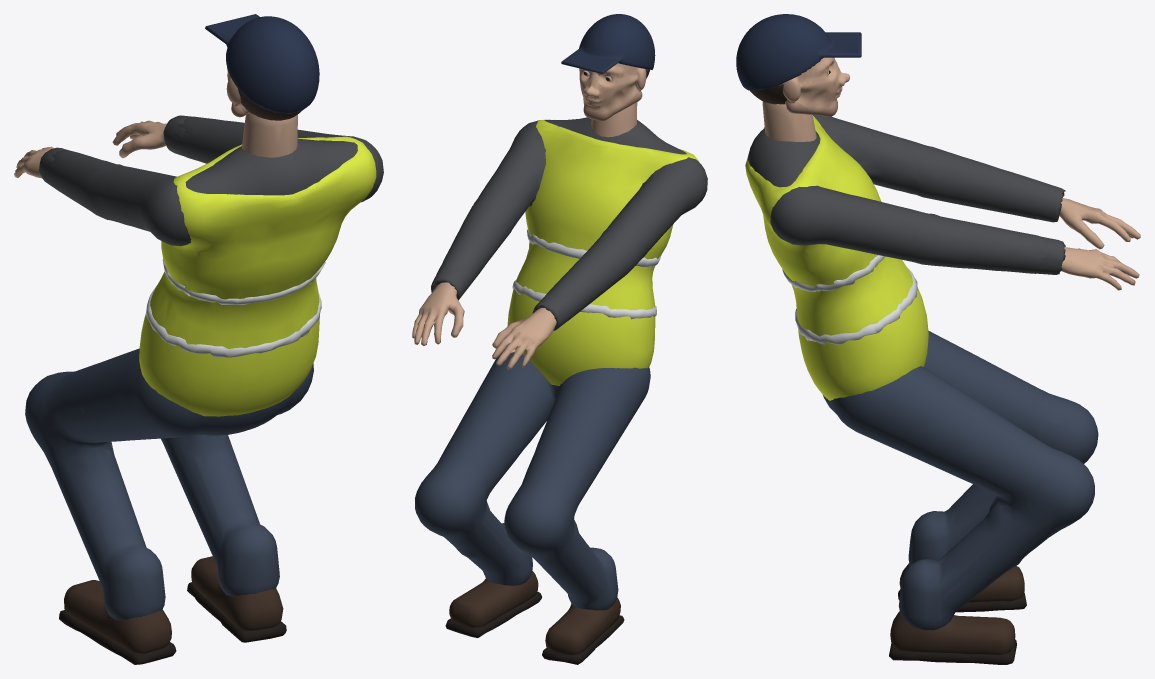
File: hivis.glb
3 renders of one model, left to right at view 1: azimuth 30°, elevation 25°; view 2: azimuth 150°, elevation 25°; view 3: azimuth 270°, elevation 25°, orthographic. The views are drawn at different scales.
Visible parts, largest first — view 1: hivis_body, hivis_head, hivis_hands; view 2: hivis_body, hivis_head, hivis_hands; view 3: hivis_body, hivis_head, hivis_hands.
Boxes of the visible parts, x1,y1,x2,y2 form: hivis_body: (25,113,383,664); hivis_head: (205,14,319,120); hivis_hands: (14,115,192,186); hivis_body: (415,102,707,664); hivis_head: (561,14,655,121); hivis_hands: (412,267,574,369); hivis_body: (745,101,1098,664); hivis_head: (736,14,861,116); hivis_hands: (1025,183,1140,290).
Bounding box in the file's own units: 0.5024 × 1.42 × 0.8504.
